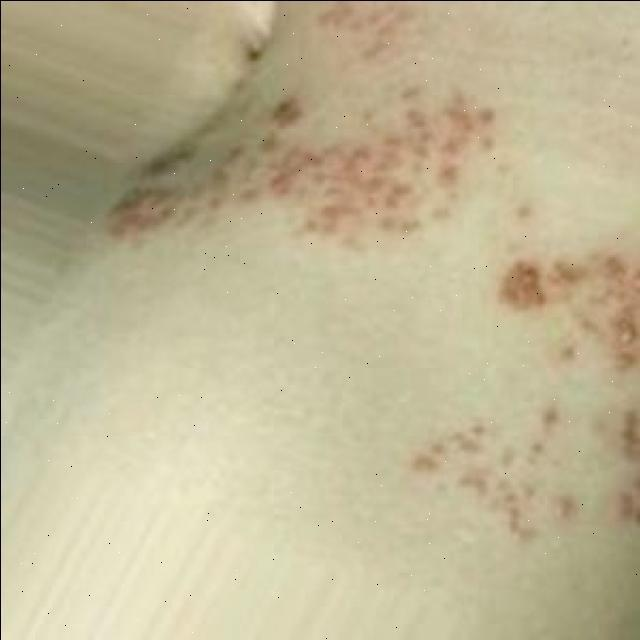Shingles: (91, 81, 530, 251), (402, 243, 640, 544)
